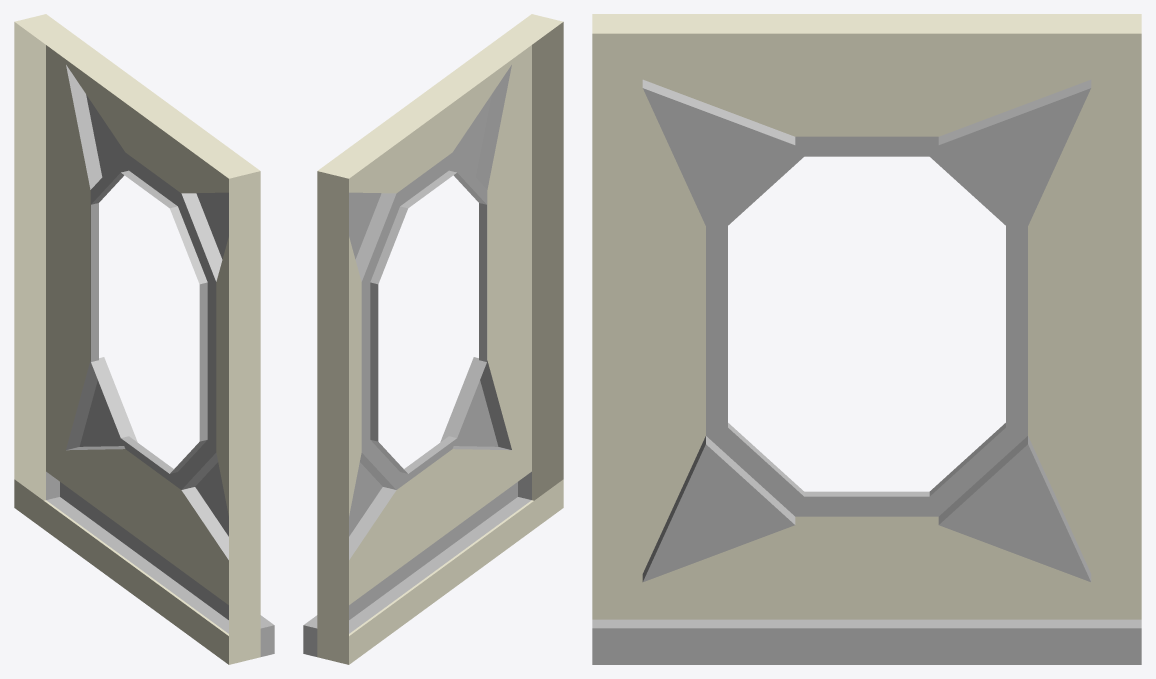
Rendered from window.fbx.
3 views of the same model, side by side, from view 1: azimuth 30°, elevation 25°; view 2: azimuth 150°, elevation 25°; view 3: azimuth 270°, elevation 25° (orthographic). The views are drawn at different scales.
Visible parts, largest first — view 1: Cube.021; view 2: Cube.021; view 3: Cube.021.
Part boxes in pixels (x1,y1,x2,y2): Cube.021: (14,14,274,664); Cube.021: (303,14,563,664); Cube.021: (592,14,1141,664).
Bounding box in the file's own units: 49.24 × 502 × 402.
